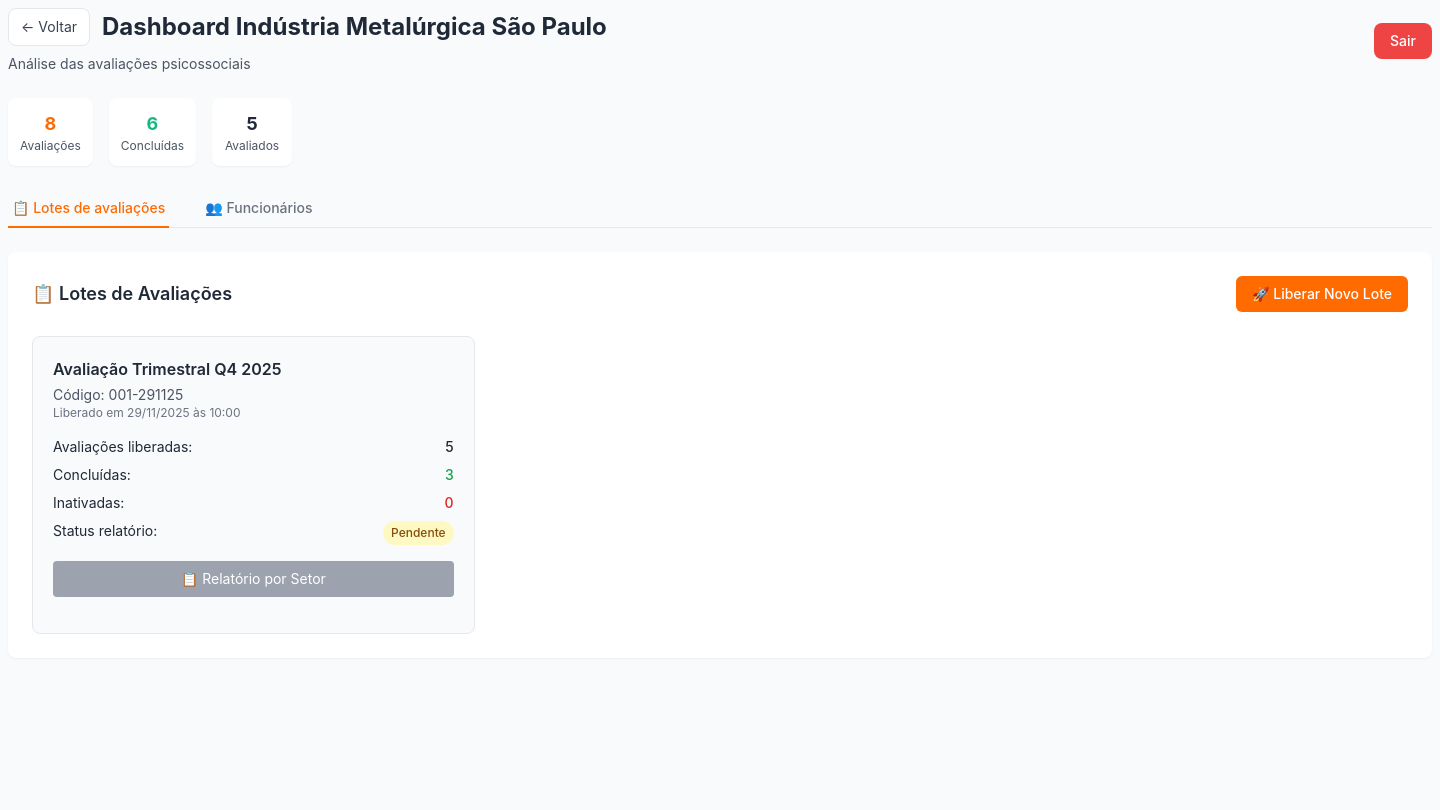
Test: RH Empresa Dashboard - Sistema de Lotes › Seção de Liberação de Lotes › deve validar título obrigatório
The width and height of the screenshot is (1440, 810).
Click the button "🚀 Liberar Novo Lote": (1322, 294) [1236,276,1408,312]
(page scrolled)
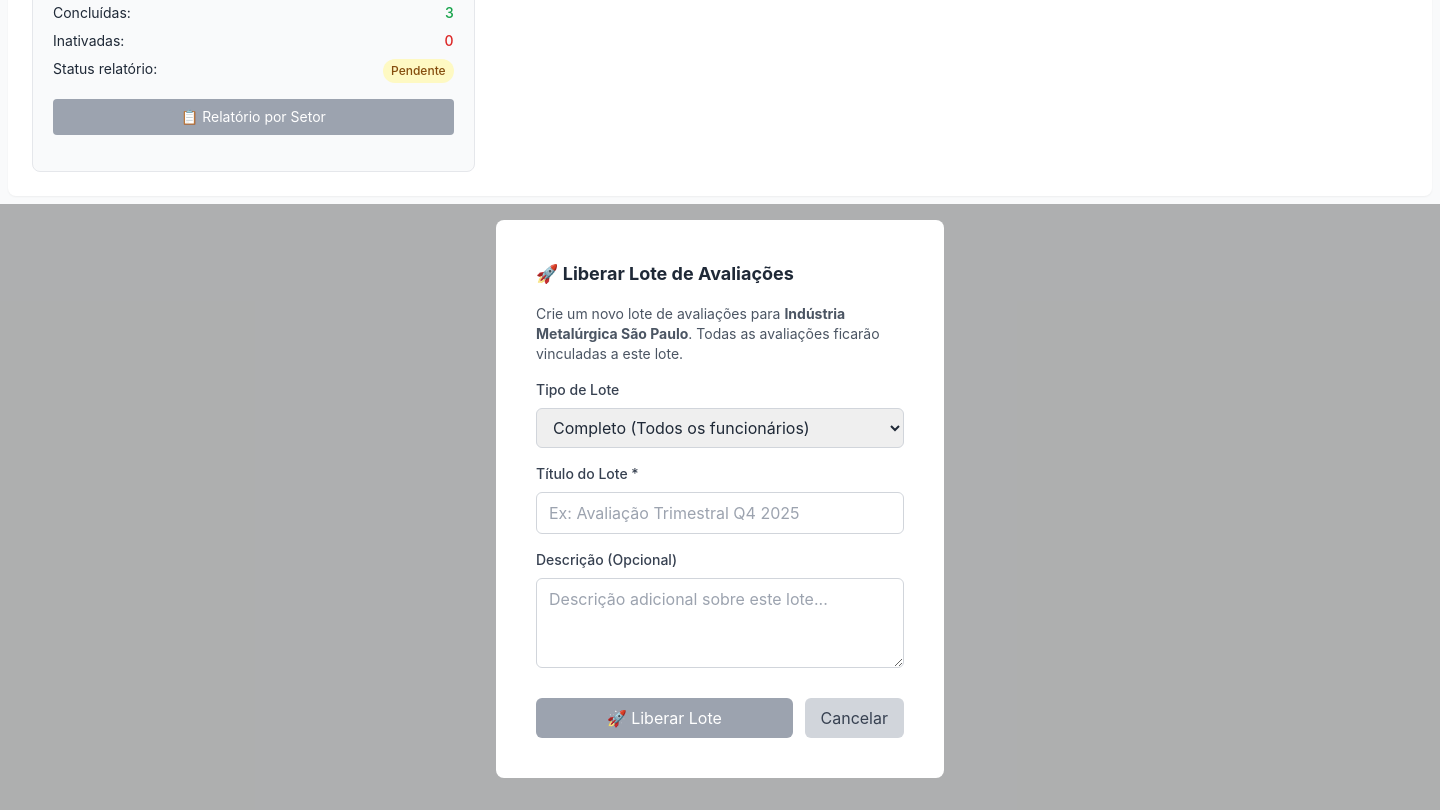
Expected: the button "🚀 Liberar Lote" is disabled, [536,698,792,738]
